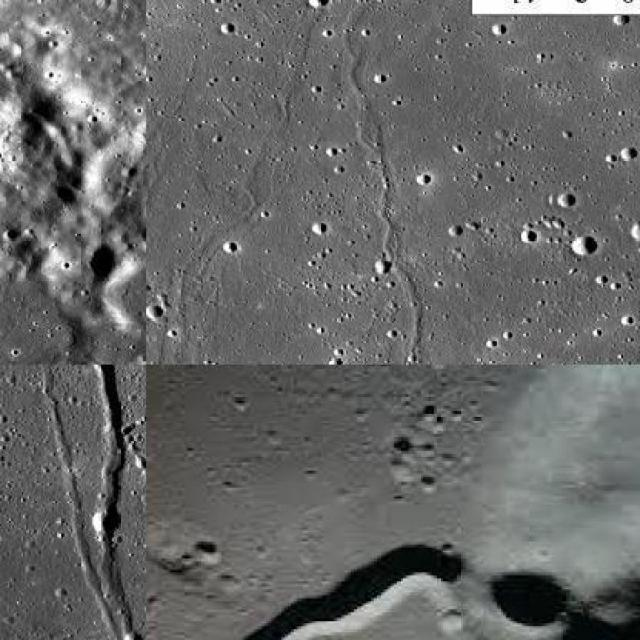rille: (343, 0, 480, 363), (146, 538, 639, 638), (17, 364, 138, 638), (62, 364, 144, 638)
